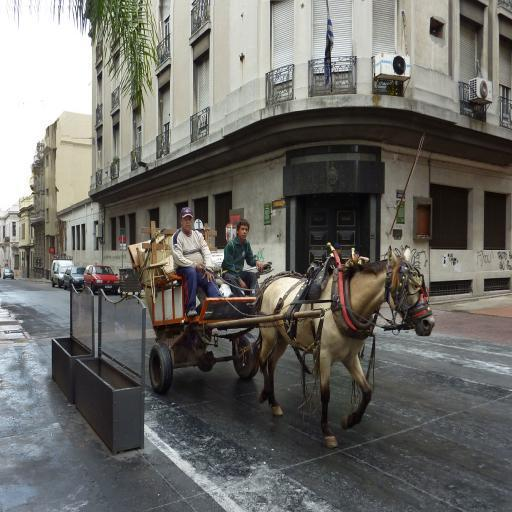horse: (256, 247, 434, 452)
